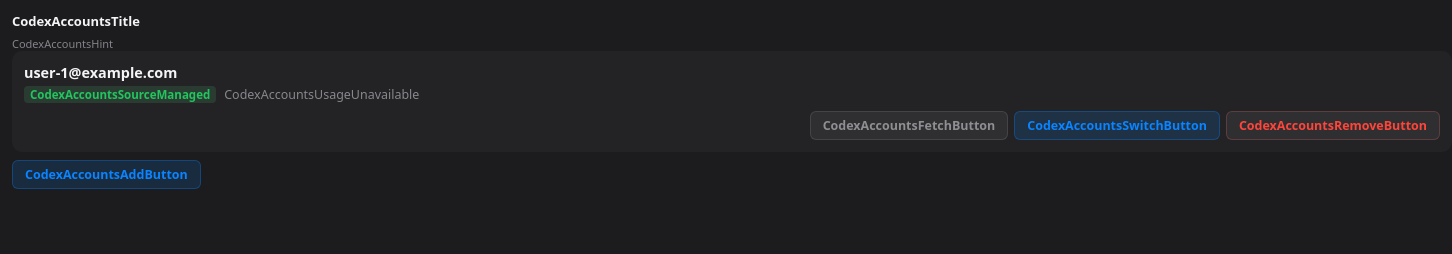
Scenario: CodexAccountsSection › does not offer a desktop session restart for a no-op switch
Click the button "CodexAccountsSwitchButton": {"x": 1117, "y": 126} x1=1014 y1=111 x2=1220 y2=140
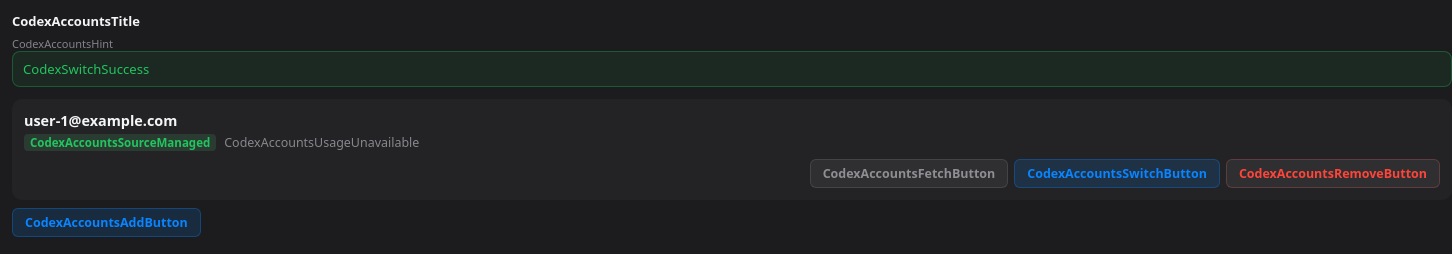
Expected: the text "CodexSwitchSuccess" is shown, x1=12 y1=51 x2=1451 y2=87
